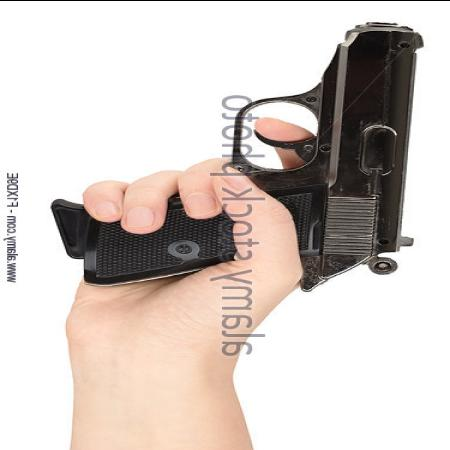Pistol: (64, 19, 424, 295)
